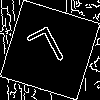L: (25, 25, 71, 78)
